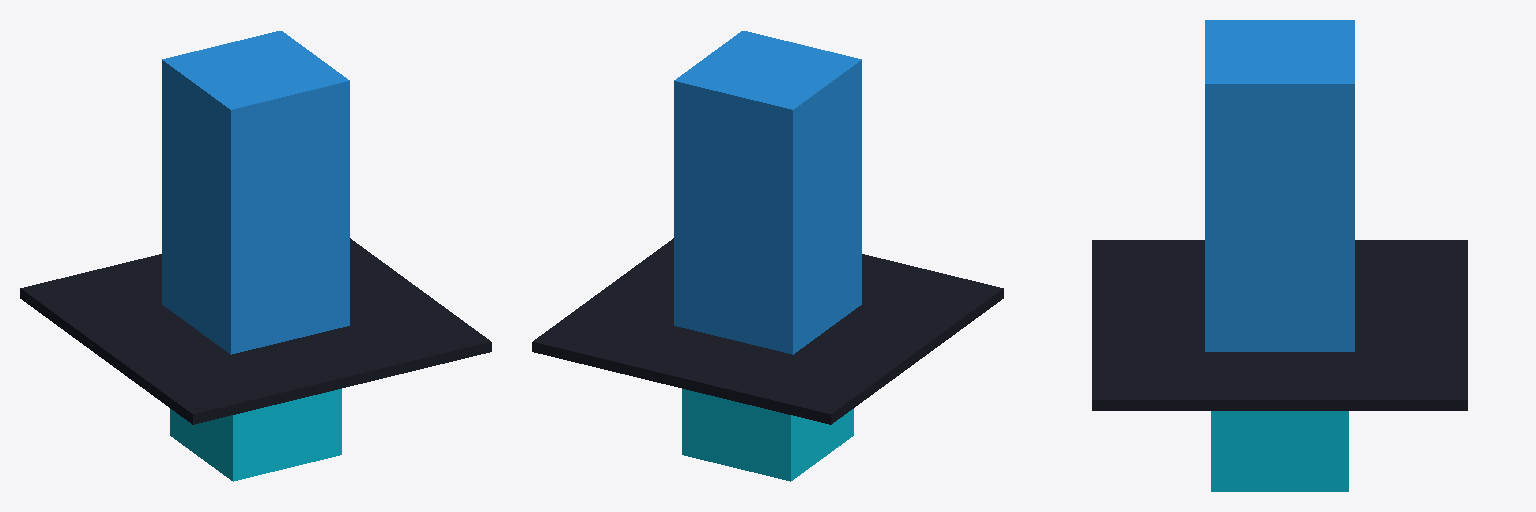
The robot description file, URDF, robot "opuno_pump":
<?xml version="1.0"?>
<robot name="opuno_pump" xmlns:xacro="http://www.ros.org/wiki/xacro">
  <link name="base">
    <inertial>
      <origin xyz="0 0 0" rpy="0 0 0"/>
      <mass value="1"/>
      <inertia ixx="0.001" iyy="0.001" izz="0.001" ixy="0" ixz="0" iyz="0"/>
    </inertial>
    <visual name="floor">
      <origin xyz="0 0 0" rpy="0 0 0"/>
      <geometry>
        <box size="0.3 0.3 0.01"/>
      </geometry>
      <material name="gray">
        <color rgba="0.15 0.16 0.2 1"/>
      </material>
    </visual>
    <visual name="tank_shell">
      <origin xyz="0 0 0.12" rpy="0 0 0"/>
      <geometry>
        <box size="0.12 0.12 0.24"/>
      </geometry>
      <material name="shell">
        <color rgba="0.2 0.6 0.9 0.2"/>
      </material>
    </visual>
    <collision>
      <origin xyz="0 0 0" rpy="0 0 0"/>
      <geometry>
        <box size="0.3 0.3 0.01"/>
      </geometry>
    </collision>
  </link>

  <link name="fluid">
    <inertial>
      <origin xyz="0 0 0" rpy="0 0 0"/>
      <mass value="0.1"/>
      <inertia ixx="0.0001" iyy="0.0001" izz="0.0001" ixy="0" ixz="0" iyz="0"/>
    </inertial>
    <visual>
      <origin xyz="0 0 -0.12" rpy="0 0 0"/>
      <geometry>
        <box size="0.11 0.11 0.24"/>
      </geometry>
      <material name="water">
        <color rgba="0.1 0.8 0.9 0.8"/>
      </material>
    </visual>
    <collision>
      <origin xyz="0 0 -0.12" rpy="0 0 0"/>
      <geometry>
        <box size="0.11 0.11 0.24"/>
      </geometry>
    </collision>
  </link>

  <joint name="fluid_slide" type="prismatic">
    <parent link="base"/>
    <child link="fluid"/>
    <origin xyz="0 0 0.12" rpy="0 0 0"/>
    <axis xyz="0 0 1"/>
    <limit lower="0.0" upper="0.25" effort="5" velocity="0.5"/>
    <dynamics damping="0.1" friction="0"/>
  </joint>
</robot>

--- What the picture shows (computed from the rendered views, not written in the file) ---
Views: 3 orthographic renders of the robot side by side, from view 1: azimuth 30°, elevation 25°; view 2: azimuth 150°, elevation 25°; view 3: azimuth 270°, elevation 25°.
Model opuno_pump with 2 links and 1 joints (1 prismatic), rooted at base, posed every joint at zero.
Visible links, largest first — view 1: base, fluid; view 2: base, fluid; view 3: base, fluid.
Link boxes in pixels (x1,y1,x2,y2): base: (20,31,491,424); fluid: (170,389,341,481); base: (532,31,1003,424); fluid: (682,389,853,481); base: (1092,20,1467,410); fluid: (1211,411,1348,491).
Bounding box of the posed robot: 0.3 × 0.3 × 0.36 m (x, y, z).
Geometry: primitives only (box / cylinder / sphere), no mesh files.